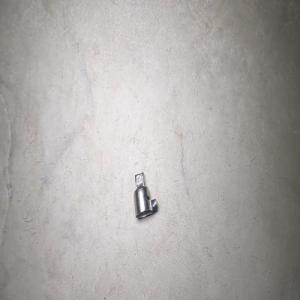MetalPart: (133, 171, 157, 218)
